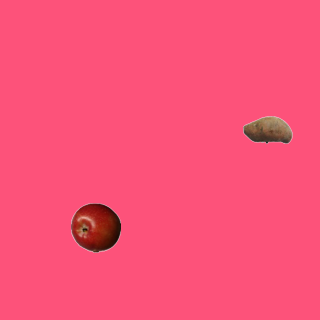Apple Braeburn: (70, 202, 120, 252)
Potato Sweet: (242, 104, 292, 154)
